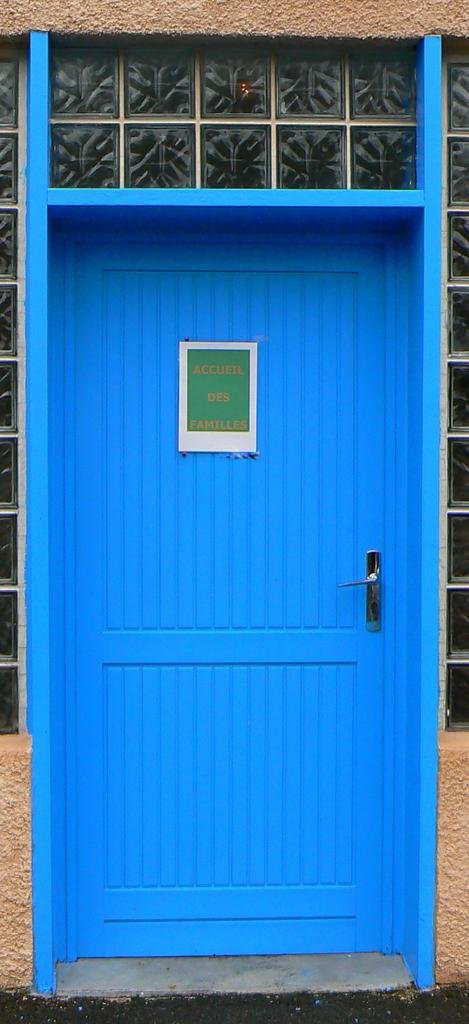handle: (342, 554, 379, 608)
